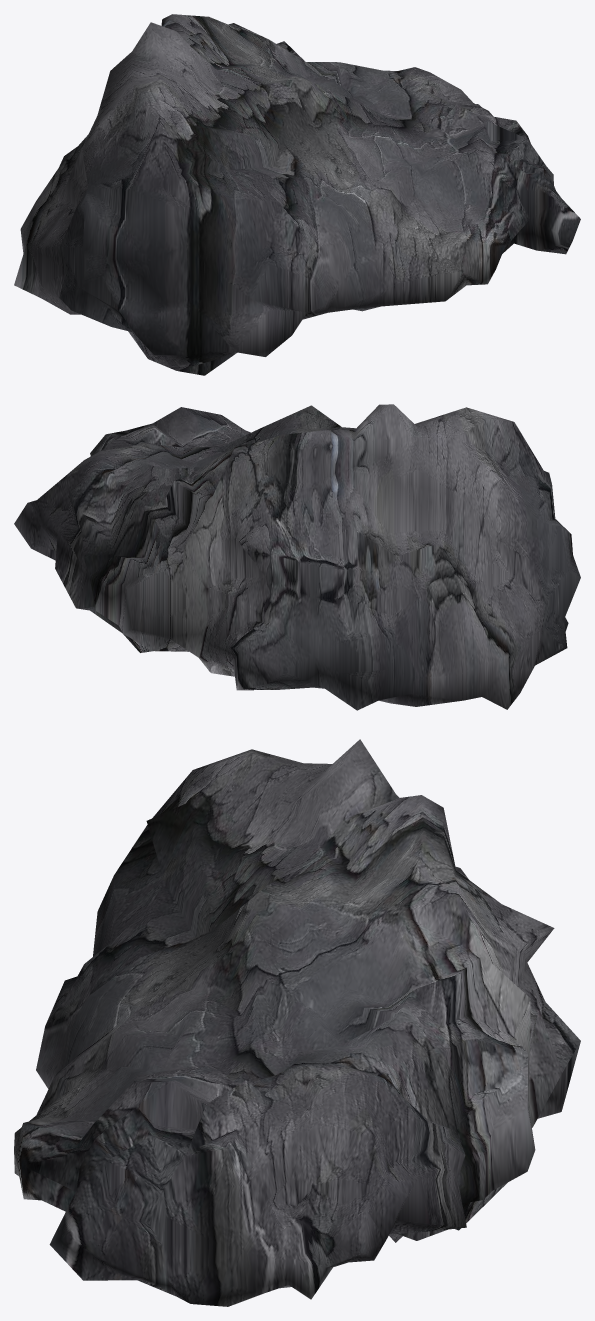
File: RockWall2.fbx
3 views of the same model, one above another, from view 1: azimuth 30°, elevation 25°; view 2: azimuth 150°, elevation 25°; view 3: azimuth 270°, elevation 25° (orthographic). The views are drawn at different scales.
Parts seen in each view (by area): view 1: Куб.077; view 2: Куб.077; view 3: Куб.077.
Boxes of the visible parts, box(x1,y1,x2,y2) form: Куб.077: box(14, 14, 580, 375); Куб.077: box(14, 404, 580, 710); Куб.077: box(14, 739, 580, 1306).
Bounding box in the file's own units: 513 × 295 × 379.
